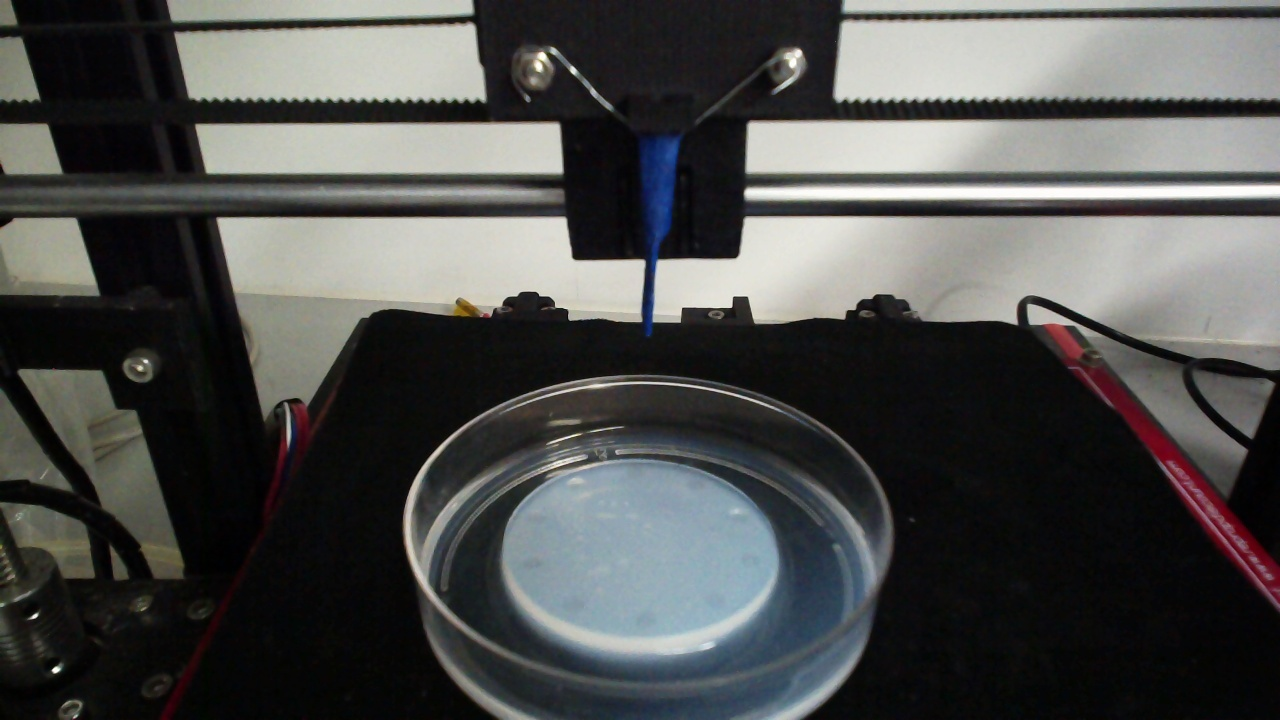groove: (702, 589, 729, 611), (631, 609, 657, 630), (559, 595, 586, 614), (740, 551, 764, 572), (725, 509, 751, 526), (519, 554, 543, 572), (683, 476, 707, 494), (622, 464, 646, 482), (565, 476, 587, 494), (521, 509, 547, 524)
needle: (637, 136, 678, 337)
